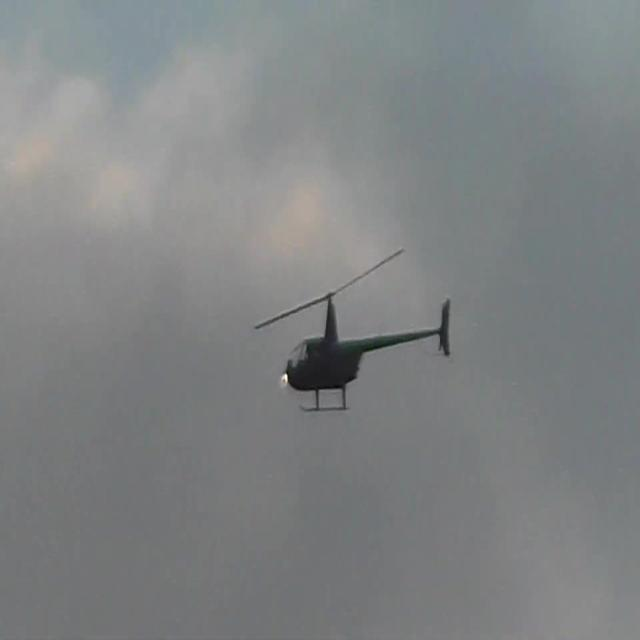CIV_HELO: (285, 292, 452, 414)
